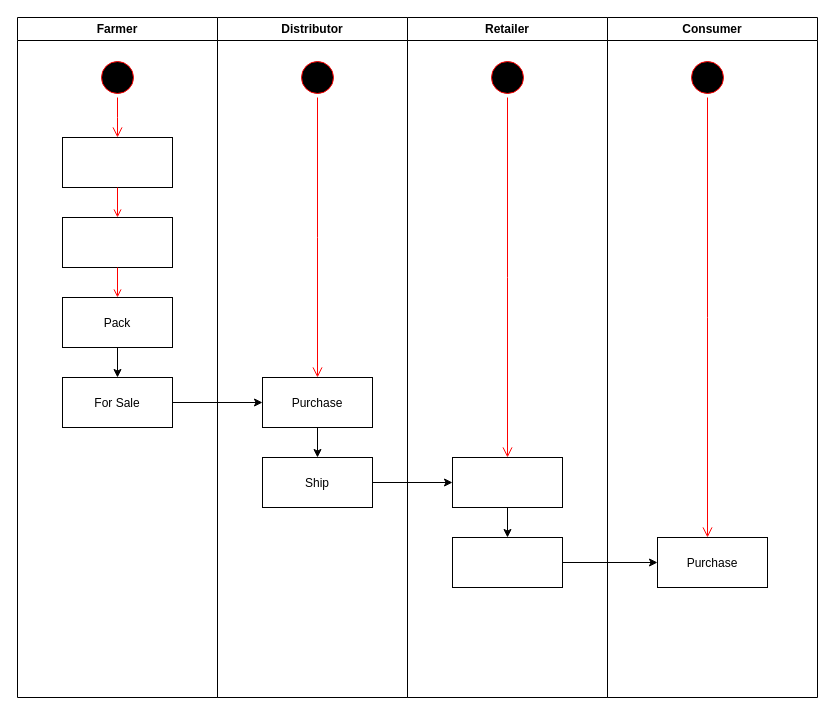
Image size: 835x715. Some labels were removed from this diagram. Each missing label, with the centre of its shape:
"Harvest" goes at (117,162).
"Process" goes at (117,242).
"Receive" goes at (507,482).
"Sold" goes at (507,562).
